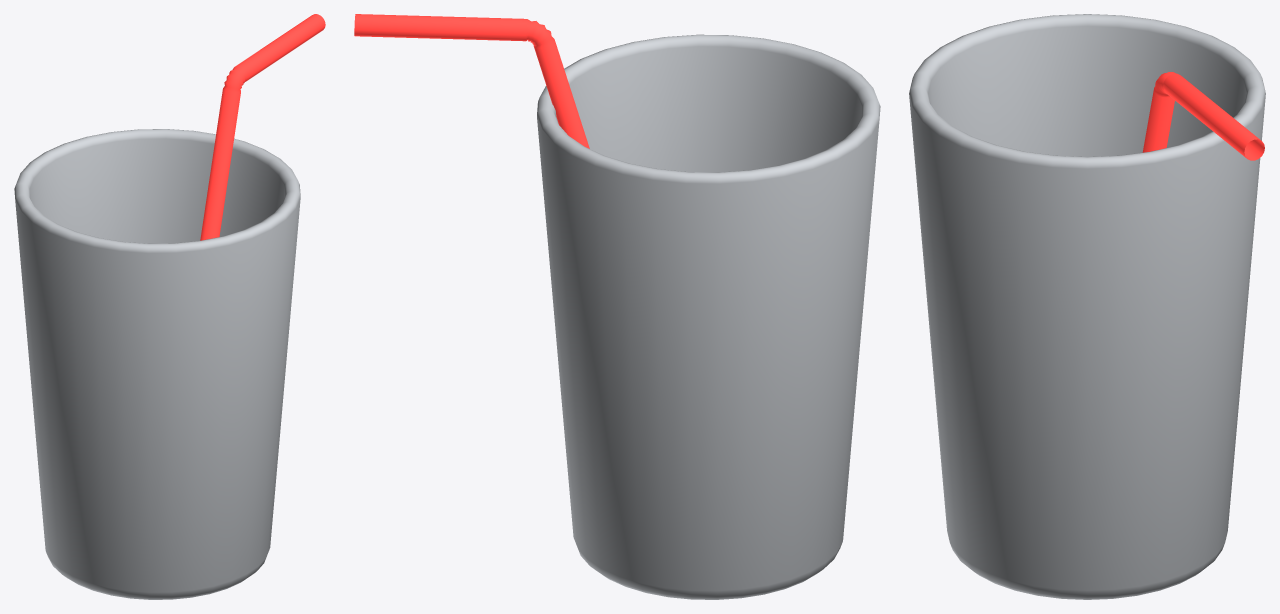
Rendered from cup_with_straw.glb.
3 views of the same model, side by side, from view 1: azimuth 30°, elevation 25°; view 2: azimuth 150°, elevation 25°; view 3: azimuth 270°, elevation 25° (orthographic). The views are drawn at different scales.
Parts seen in each view (by area): view 1: Circle.2290; view 2: Circle.2290; view 3: Circle.2290.
Boxes of the visible parts, x1,y1,x2,y2 form: Circle.2290: (14,14,325,599); Circle.2290: (354,14,880,599); Circle.2290: (909,14,1265,599).
Bounding box in the file's own units: 1.69 × 1.99 × 1.18.
2 materials, 1 textured.
